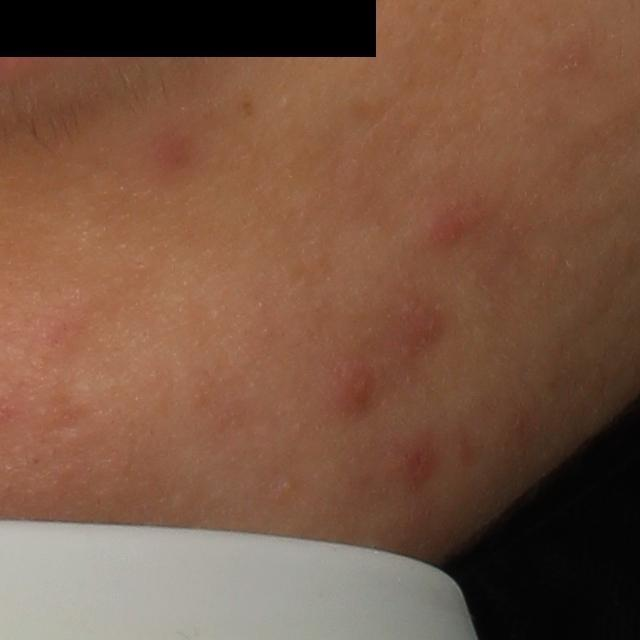papule: (315, 359, 382, 413), (394, 431, 443, 491), (420, 202, 480, 250), (397, 300, 444, 347)
